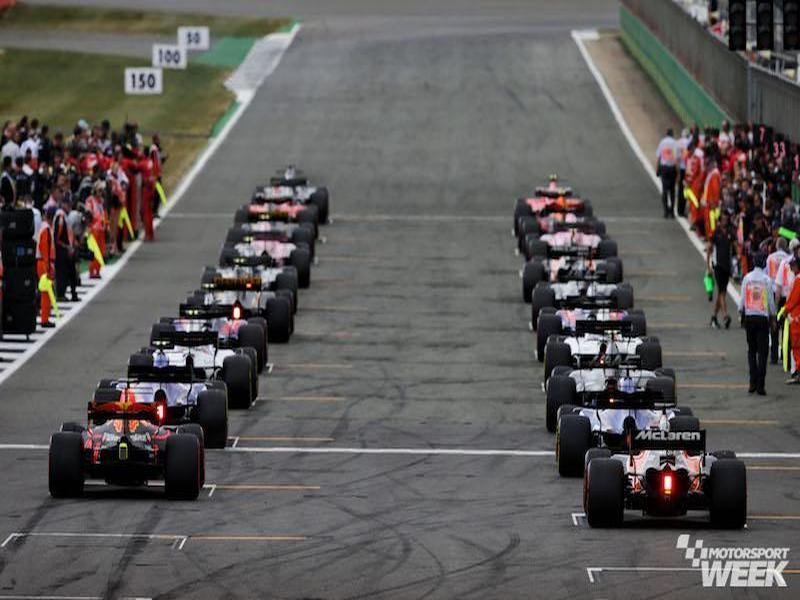f1: (37, 391, 223, 506), (577, 431, 767, 529), (65, 358, 244, 447), (134, 329, 279, 416), (151, 298, 301, 372), (555, 397, 719, 463), (248, 165, 341, 219), (510, 180, 596, 216)
